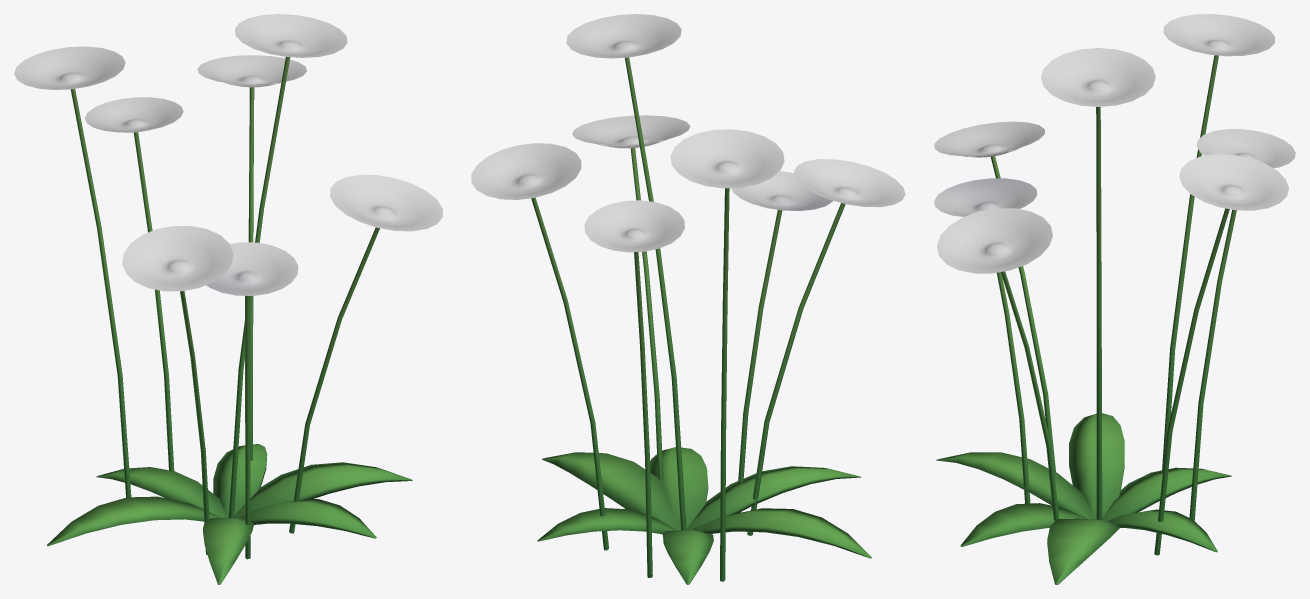
The model's file is daisy_clump.glb.
3 renders of one model, left to right at view 1: azimuth 30°, elevation 25°; view 2: azimuth 150°, elevation 25°; view 3: azimuth 270°, elevation 25°, orthographic. The views are drawn at different scales.
Parts seen in each view (by area): view 1: daisy_clump; view 2: daisy_clump; view 3: daisy_clump.
Boxes of the visible parts, x1,y1,x2,y2 form: daisy_clump: [14, 14, 442, 584]; daisy_clump: [471, 14, 905, 584]; daisy_clump: [934, 14, 1295, 584].
Bounding box in the file's own units: 0.1832 × 0.2461 × 0.1652.
